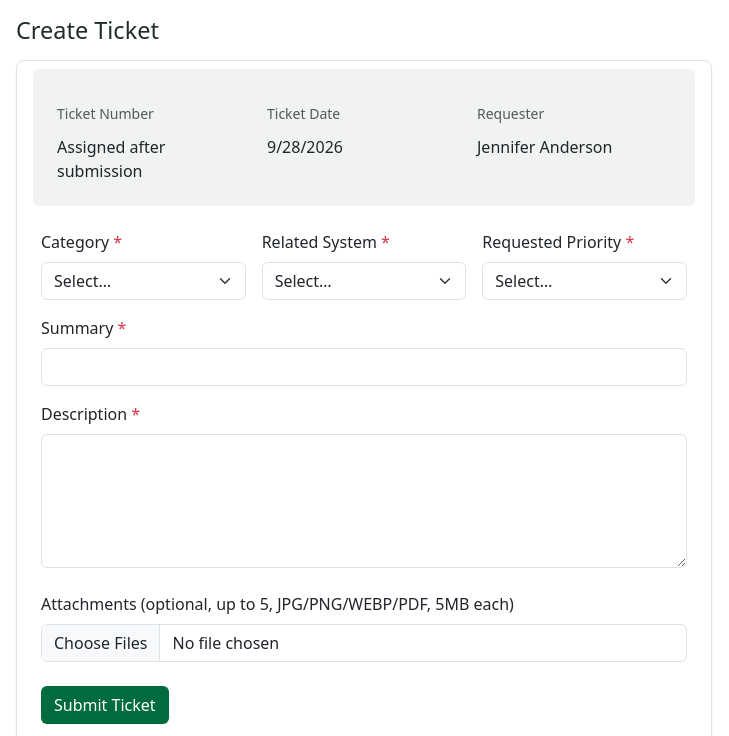
Scenario: CreateTicket › shows the generated Ticket Number on success (AC-01)
Select "Hardware" in the dropdown labelled "Category *": (143, 281) [41,262,246,300]
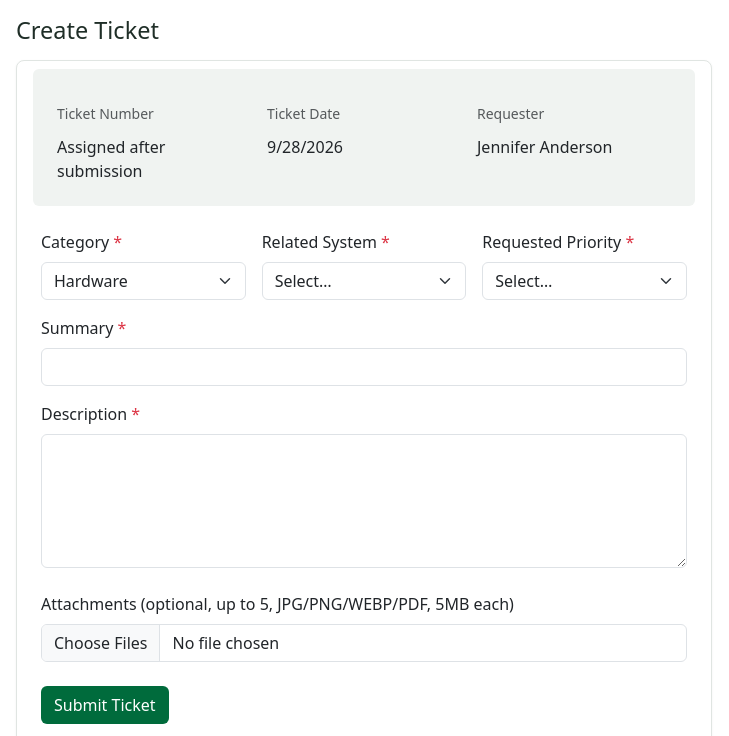
Select "Corporate Laptop" in the dropdown labelled "Related System *": (364, 281) [262,262,466,300]
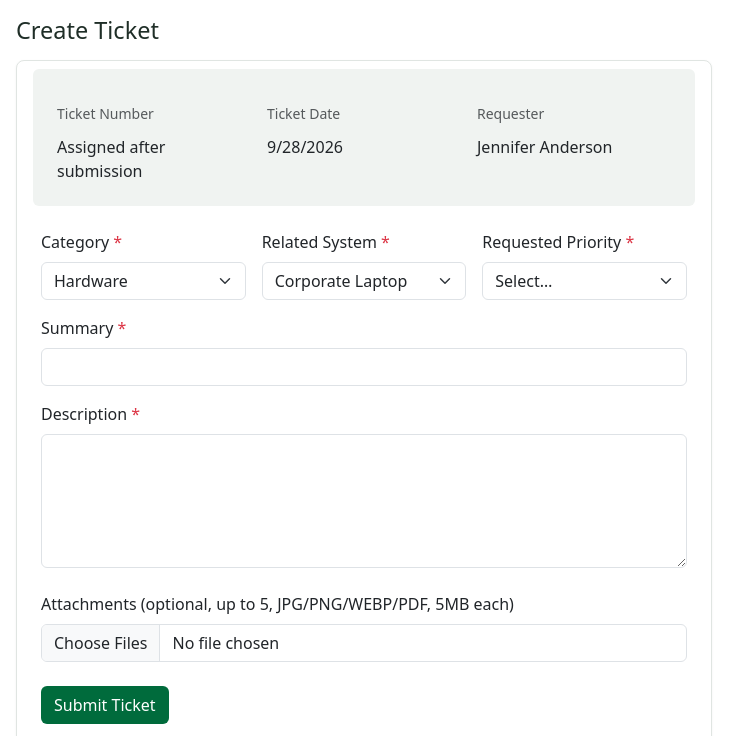
Select "Medium" in the dropdown labelled "Requested Priority *": (585, 281) [482,262,687,300]
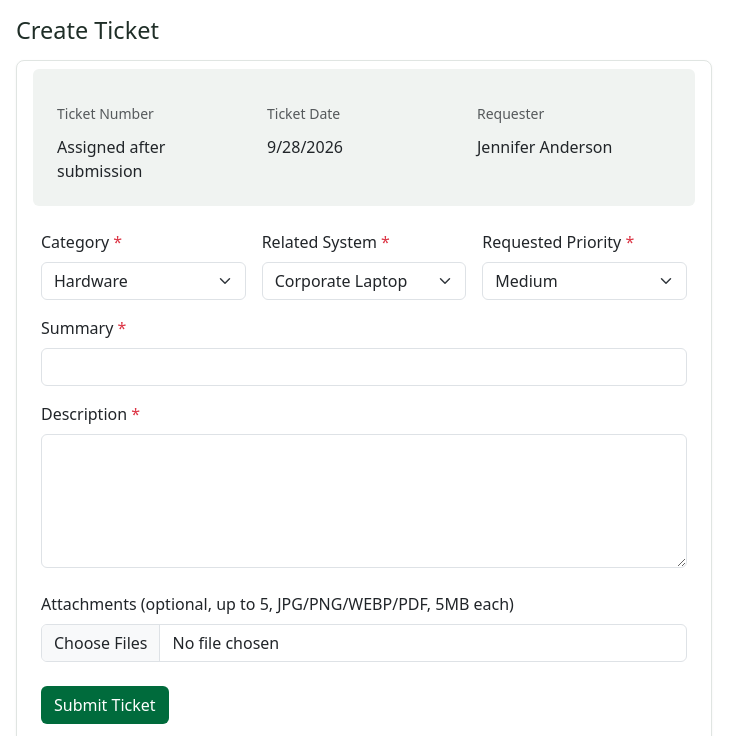
In the field labelled "Summary *": (364, 367) [41,348,687,386], type "Laptop battery drains quickly"
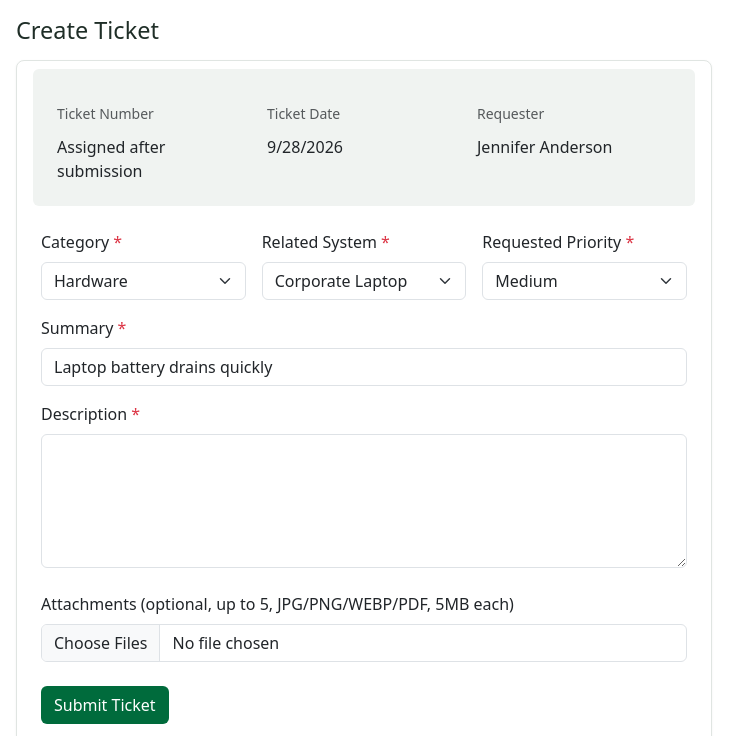
In the text box labelled "Description *": (364, 501) [41,434,687,568], type "Battery drains fast even when idle, started after last update."
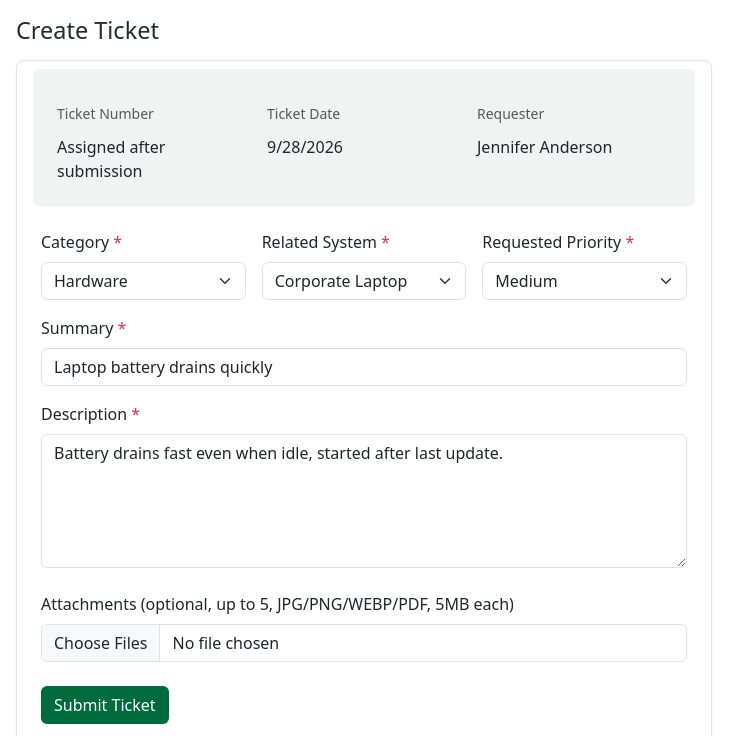
Click the button "Submit Ticket": (105, 705) [41,686,169,724]
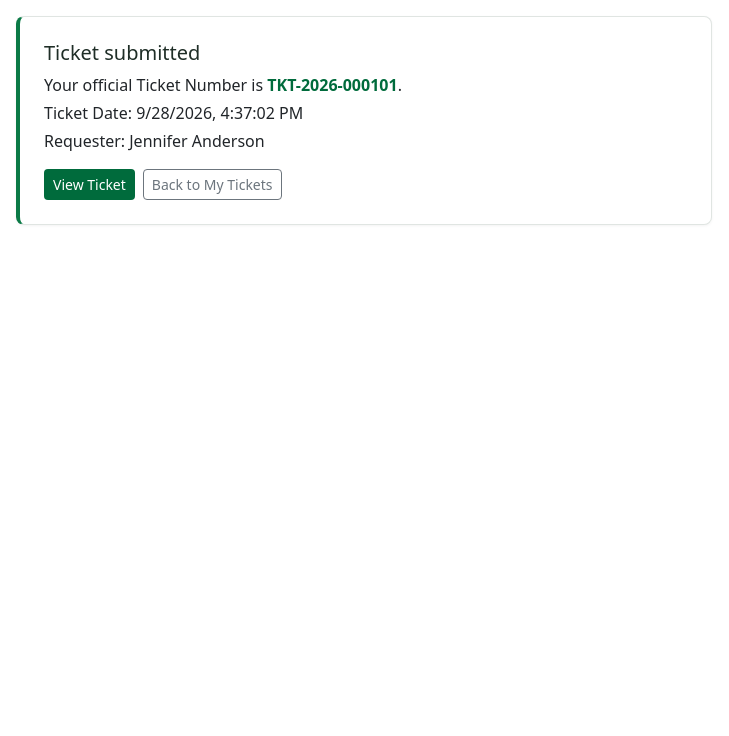
Now the text "TKT-2026-000101" is shown, box [267,74,398,96]
